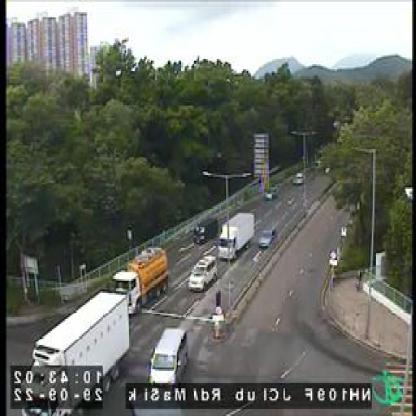Car: (150, 326, 192, 385), (186, 251, 217, 292), (194, 214, 220, 245), (259, 223, 281, 248), (291, 170, 306, 185), (265, 186, 278, 201)
Truck: (25, 288, 131, 412), (112, 239, 172, 310), (221, 208, 256, 258)
